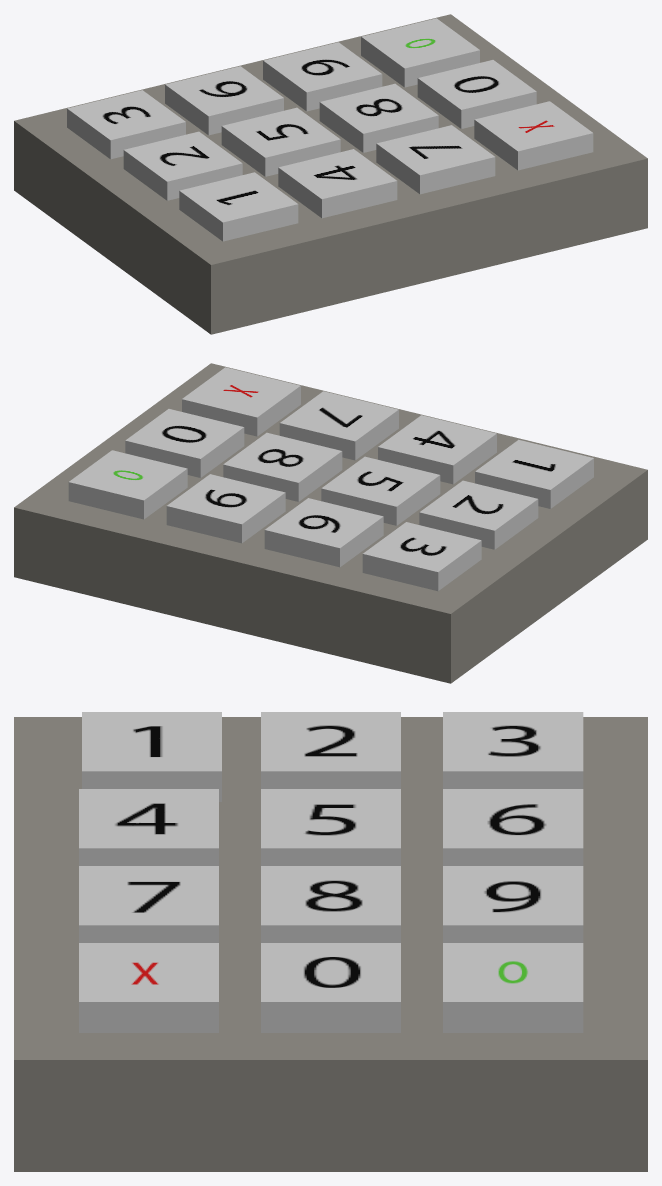
The model's file is CM_Keypad.fbx.
3 renders of one model, top to bottom at view 1: azimuth 30°, elevation 25°; view 2: azimuth 150°, elevation 25°; view 3: azimuth 270°, elevation 25°, orthographic. The views are drawn at different scales.
Visible parts, largest first — view 1: Keypad_base, Key_1, Key_1.006, Key_1.009, Key_1.003, Key_1.007, Key_1.004, Key_1.011, Key_1.008, Key_1.002, Key_1.010, Key_1.005 (+1 smaller); view 2: Keypad_base, Key_1.008, Key_1.010, Key_1.002, Key_1.005, Key_1.007, Key_1.004, Key_1.001, Key_1.011, Key_1.006, Key_1.009, Key_1.003 (+1 smaller); view 3: Keypad_base, Key_1.010, Key_1.009, Key_1.011, Key_1.002, Key_1.005, Key_1.008, Key_1, Key_1.001, Key_1.003, Key_1.004, Key_1.006 (+1 smaller).
Part boxes in pixels (x1=…): Keypad_base: x1=14, y1=14, x2=647, y2=334; Key_1: x1=179, y1=172, x2=298, y2=241; Key_1.006: x1=376, y1=125, x2=495, y2=194; Key_1.009: x1=474, y1=101, x2=593, y2=170; Key_1.003: x1=278, y1=149, x2=397, y2=218; Key_1.007: x1=319, y1=83, x2=438, y2=152; Key_1.004: x1=221, y1=107, x2=340, y2=176; Key_1.011: x1=417, y1=60, x2=536, y2=128; Key_1.008: x1=263, y1=42, x2=382, y2=111; Key_1.002: x1=67, y1=90, x2=185, y2=159; Key_1.010: x1=361, y1=18, x2=479, y2=87; Key_1.005: x1=165, y1=66, x2=283, y2=135; Keypad_base: x1=14, y1=363, x2=647, y2=683; Key_1.008: x1=166, y1=474, x2=285, y2=543; Key_1.010: x1=68, y1=450, x2=187, y2=519; Key_1.002: x1=362, y1=522, x2=481, y2=591; Key_1.005: x1=264, y1=498, x2=383, y2=567; Key_1.007: x1=223, y1=432, x2=342, y2=501; Key_1.004: x1=321, y1=456, x2=440, y2=525; Key_1.001: x1=419, y1=480, x2=538, y2=549; Key_1.011: x1=125, y1=409, x2=244, y2=477; Key_1.006: x1=279, y1=391, x2=398, y2=460; Key_1.009: x1=182, y1=367, x2=300, y2=436; Key_1.003: x1=378, y1=415, x2=496, y2=484; Keypad_base: x1=14, y1=717, x2=647, y2=1171; Key_1.010: x1=443, y1=943, x2=583, y2=1032; Key_1.009: x1=79, y1=943, x2=218, y2=1032; Key_1.011: x1=261, y1=943, x2=400, y2=1032; Key_1.002: x1=443, y1=712, x2=583, y2=788; Key_1.005: x1=443, y1=789, x2=583, y2=865; Key_1.008: x1=443, y1=866, x2=583, y2=942; Key_1: x1=82, y1=712, x2=221, y2=801; Key_1.001: x1=261, y1=712, x2=400, y2=788; Key_1.003: x1=79, y1=789, x2=218, y2=865; Key_1.004: x1=261, y1=789, x2=400, y2=865; Key_1.006: x1=79, y1=866, x2=218, y2=942.
Size of the model in its own units: 17.82 by 3.46 by 13.93.
